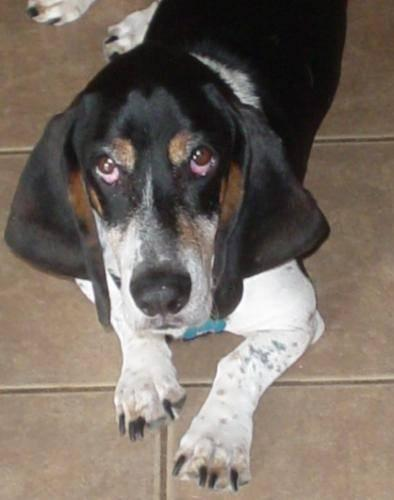dog: (5, 0, 346, 490)
